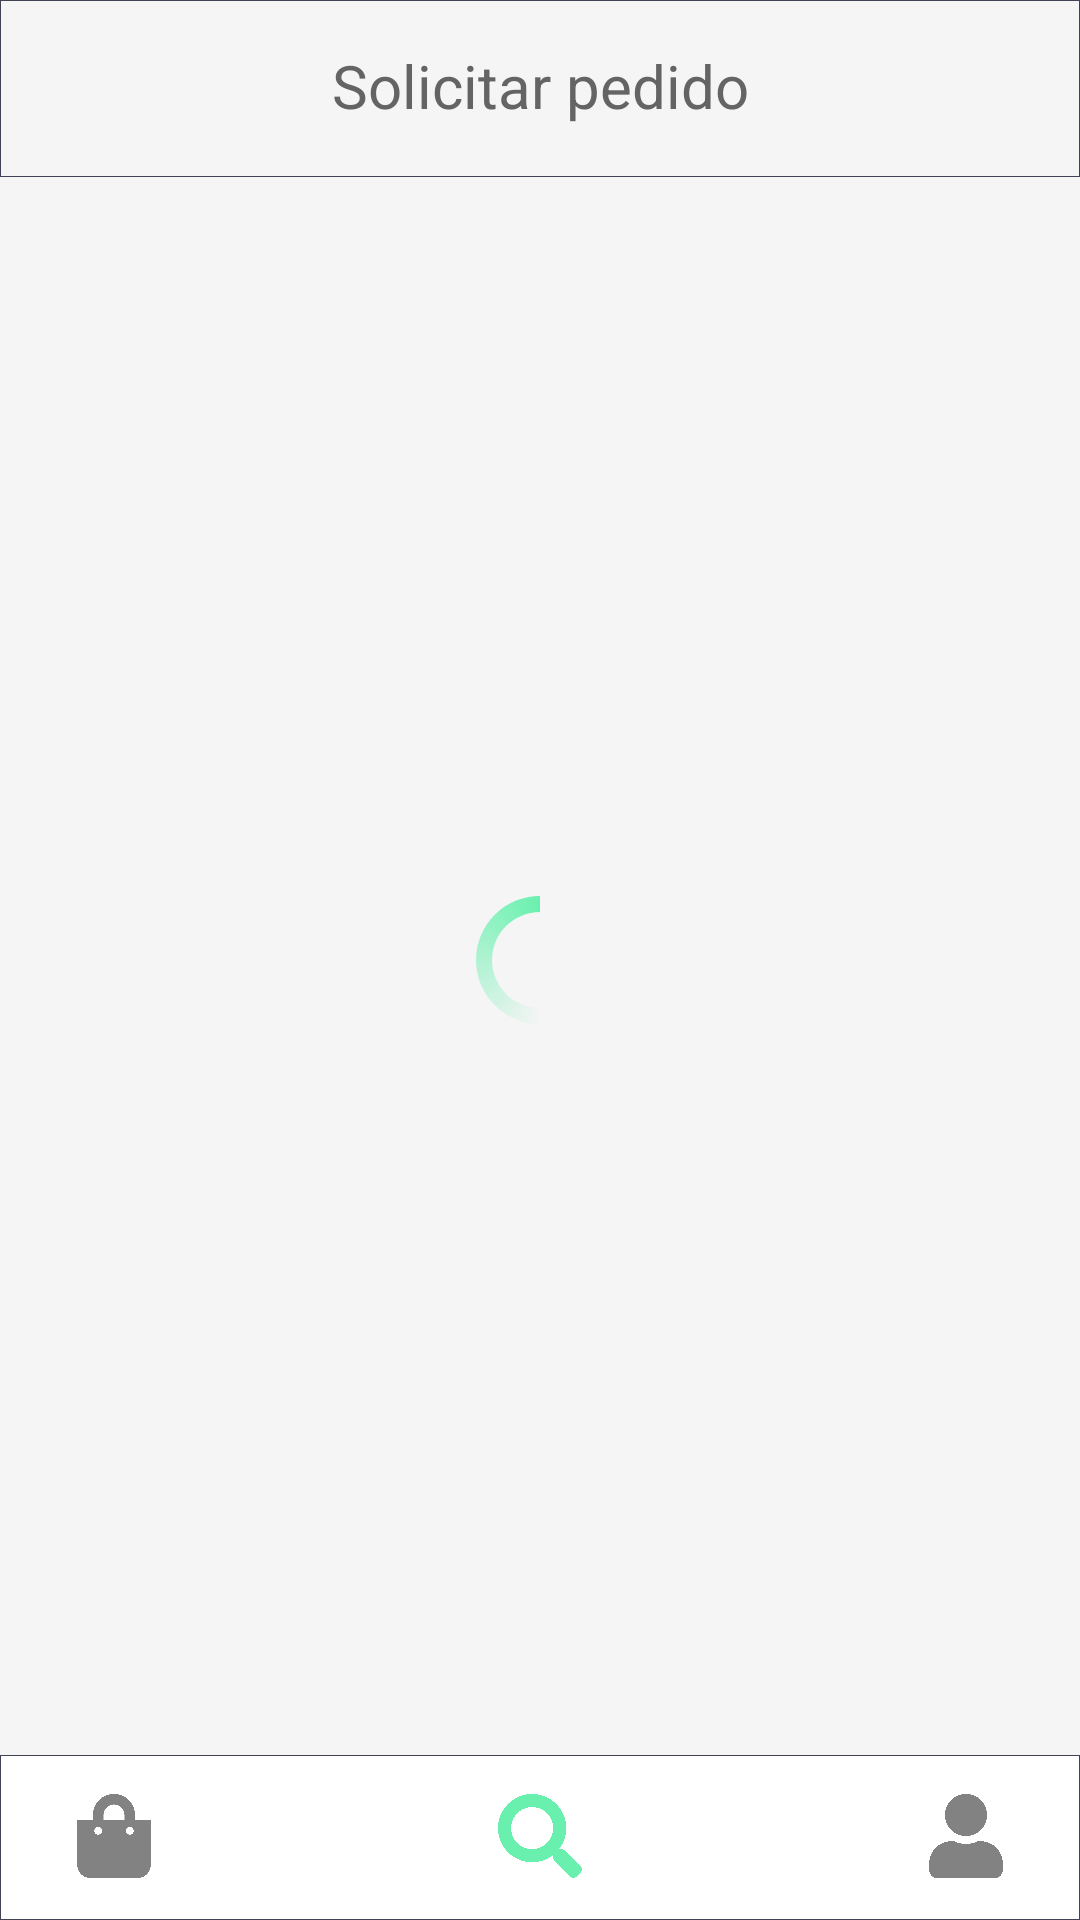

Icons on this 1080x1920 Android screen, each with the point to tap as [x,y]:
search: [540,1836]
shopping bag: [114,1836]
user: [966,1836]
